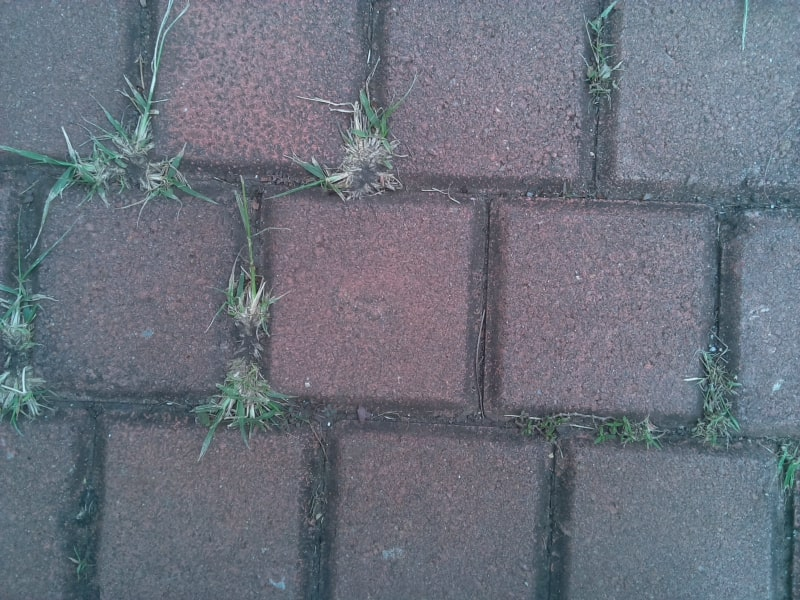Weed: (305, 92, 415, 202), (191, 358, 289, 437), (30, 135, 115, 202), (221, 254, 286, 337), (703, 350, 743, 451), (120, 72, 159, 163), (1, 373, 72, 421), (586, 13, 624, 101), (6, 270, 42, 361), (143, 156, 203, 204), (598, 415, 661, 450), (513, 411, 567, 446), (68, 546, 94, 582)
